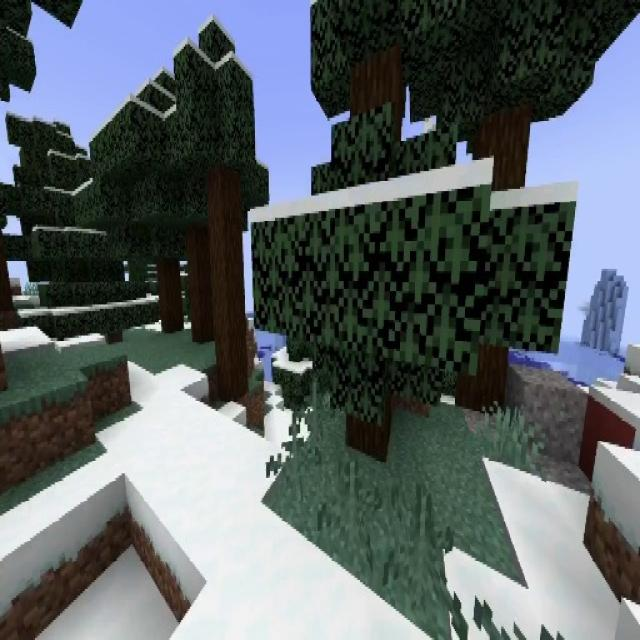spruce: (260, 1, 489, 463), (176, 18, 270, 402), (100, 61, 204, 337)
spruce_log: (212, 193, 248, 396), (459, 350, 509, 413), (492, 112, 530, 185), (188, 244, 210, 332)
